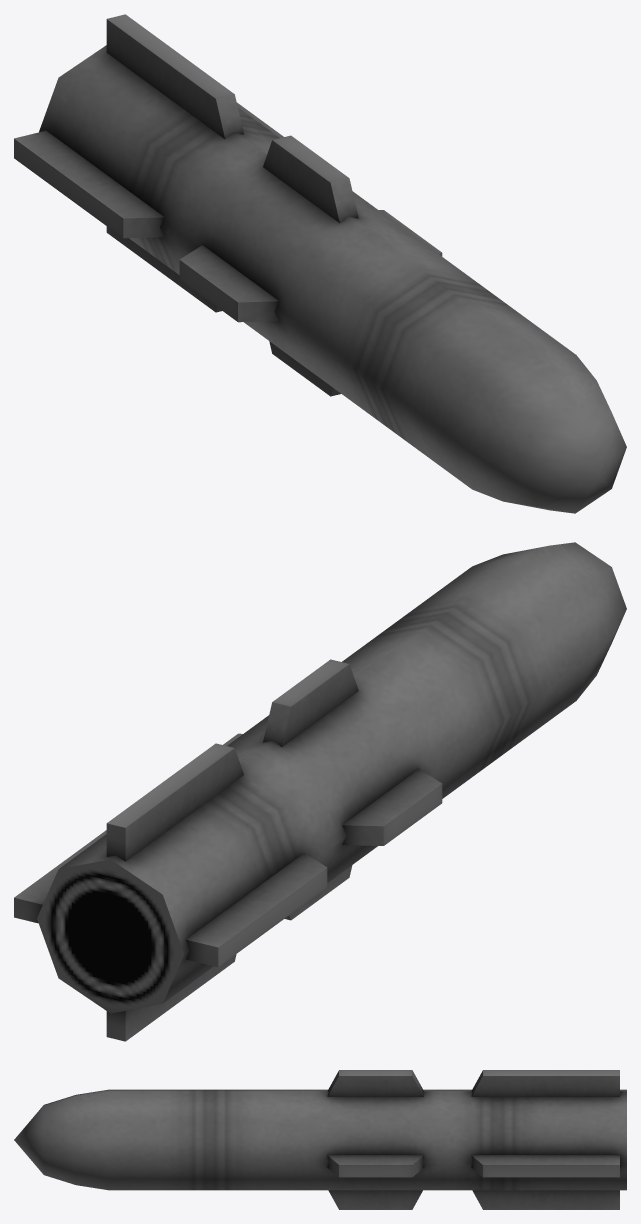
Rendered from hur_smallmissile.obj.
3 renders of one model, top to bottom at view 1: azimuth 30°, elevation 25°; view 2: azimuth 150°, elevation 25°; view 3: azimuth 270°, elevation 25°, orthographic. The views are drawn at different scales.
Parts seen in each view (by area): view 1: MULT[Hull]_LOD[0]; view 2: MULT[Hull]_LOD[0]; view 3: MULT[Hull]_LOD[0].
Boxes of the visible parts, <box> form: MULT[Hull]_LOD[0]: <box>14,14,626,513</box>; MULT[Hull]_LOD[0]: <box>14,542,626,1041</box>; MULT[Hull]_LOD[0]: <box>14,1070,626,1209</box>.
Size of the model in its own units: 0.2158 by 0.2158 by 0.8943.
Materials: 1 (1 with a texture image).
